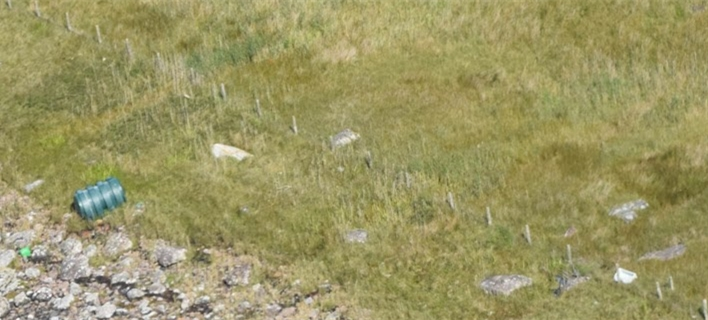scattered_barrel: (46, 120, 264, 247)
white_in_green: (593, 246, 660, 304), (1, 219, 58, 280)
